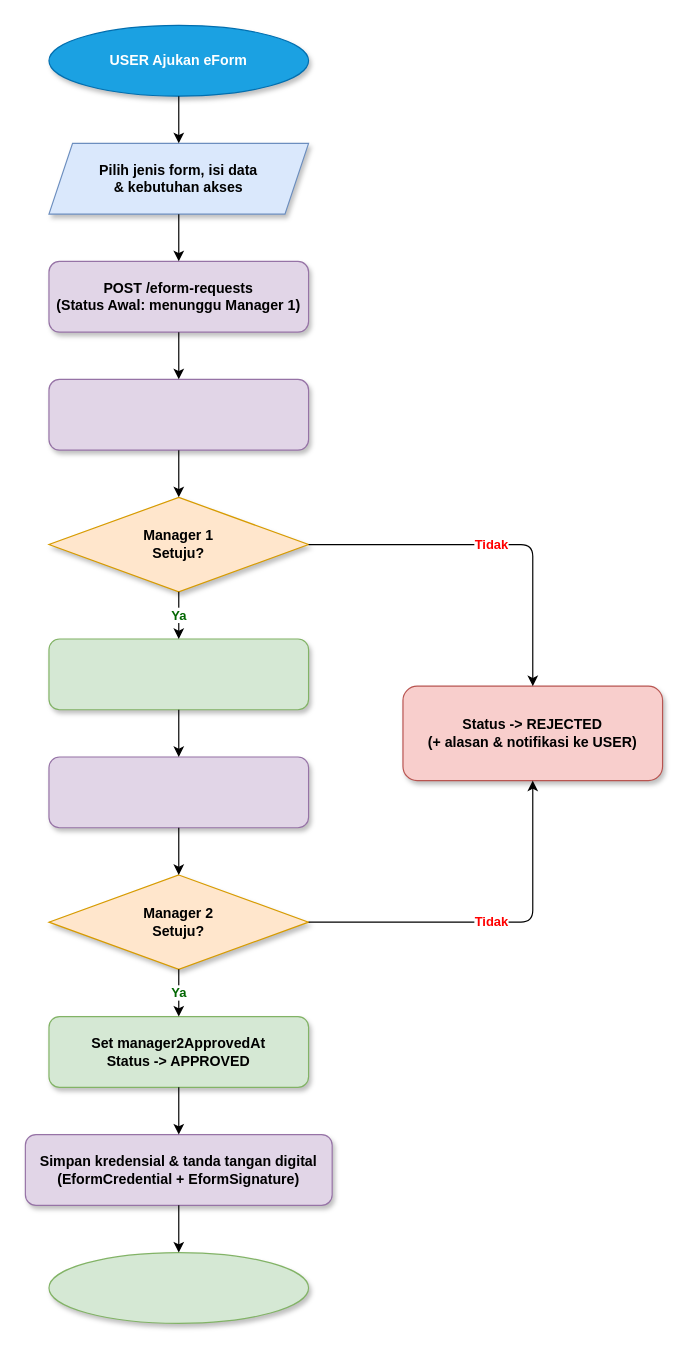
The diagram is 690 pixels wide and 1352 high, and some of its shapes have lost their labels. The centre of each missing label's shape, as x and y in pixels:
Akses diberikan (+ notifikasi ke USER): [179,1289]
Manager 1 me-review: [179,415]
Manager 2 me-review: [179,793]
Set manager1ApprovedAt (Teruskan ke Manager 2): [179,675]
